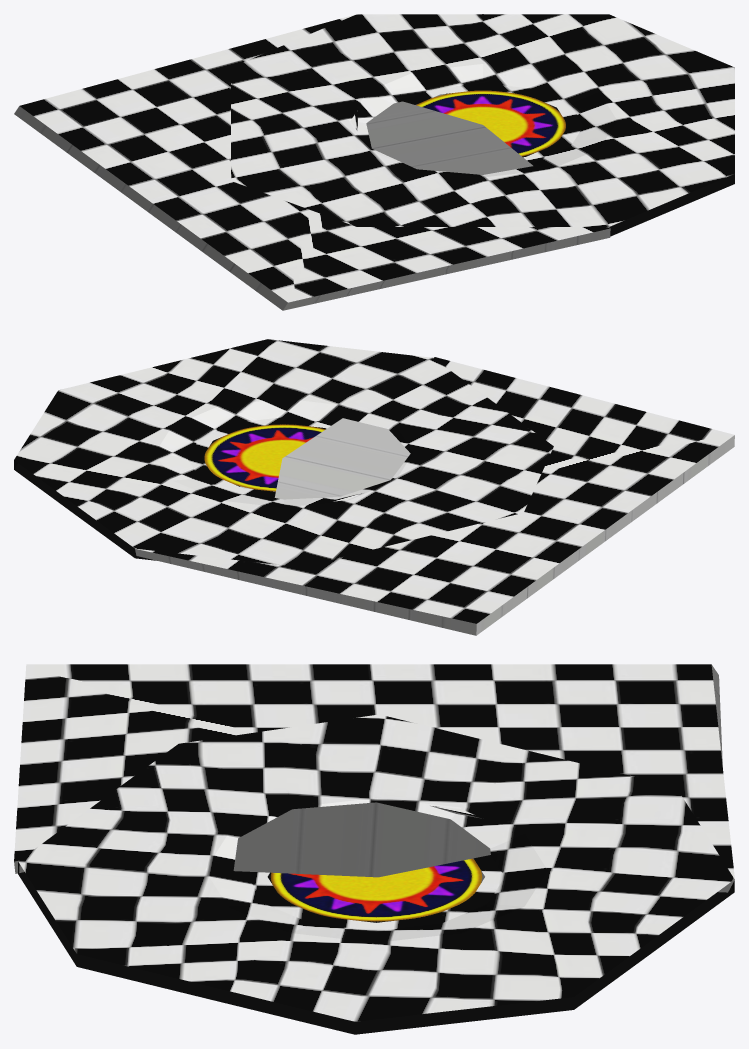
Rendered from floor.obj.
3 renders of one model, top to bottom at view 1: azimuth 30°, elevation 25°; view 2: azimuth 150°, elevation 25°; view 3: azimuth 270°, elevation 25°, orthographic. The views are drawn at different scales.
Visible parts, largest first — view 1: Floor; view 2: Floor; view 3: Floor.
Boxes of the visible parts, box(x1,y1,x2,y2) form: Floor: box(14, 14, 734, 310); Floor: box(14, 339, 734, 635); Floor: box(14, 664, 734, 1034).
Bounding box in the file's own units: 23.84 × 0.4138 × 20.2.
3 materials, 2 textured.
